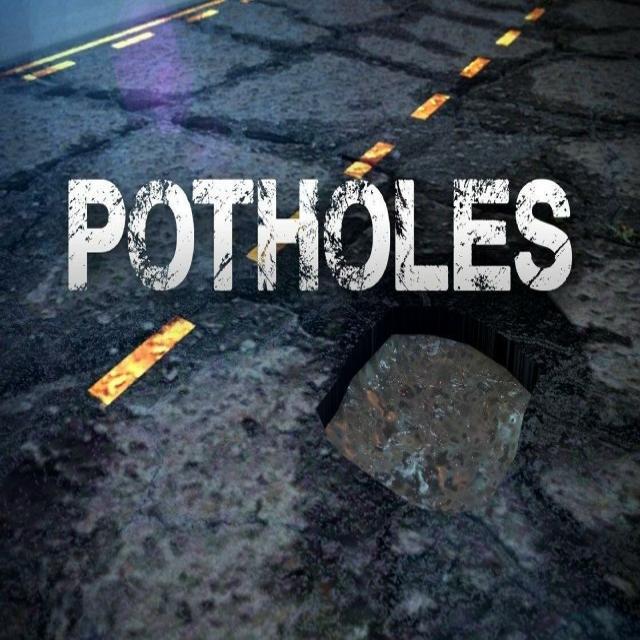Pothole: (299, 286, 572, 552)
